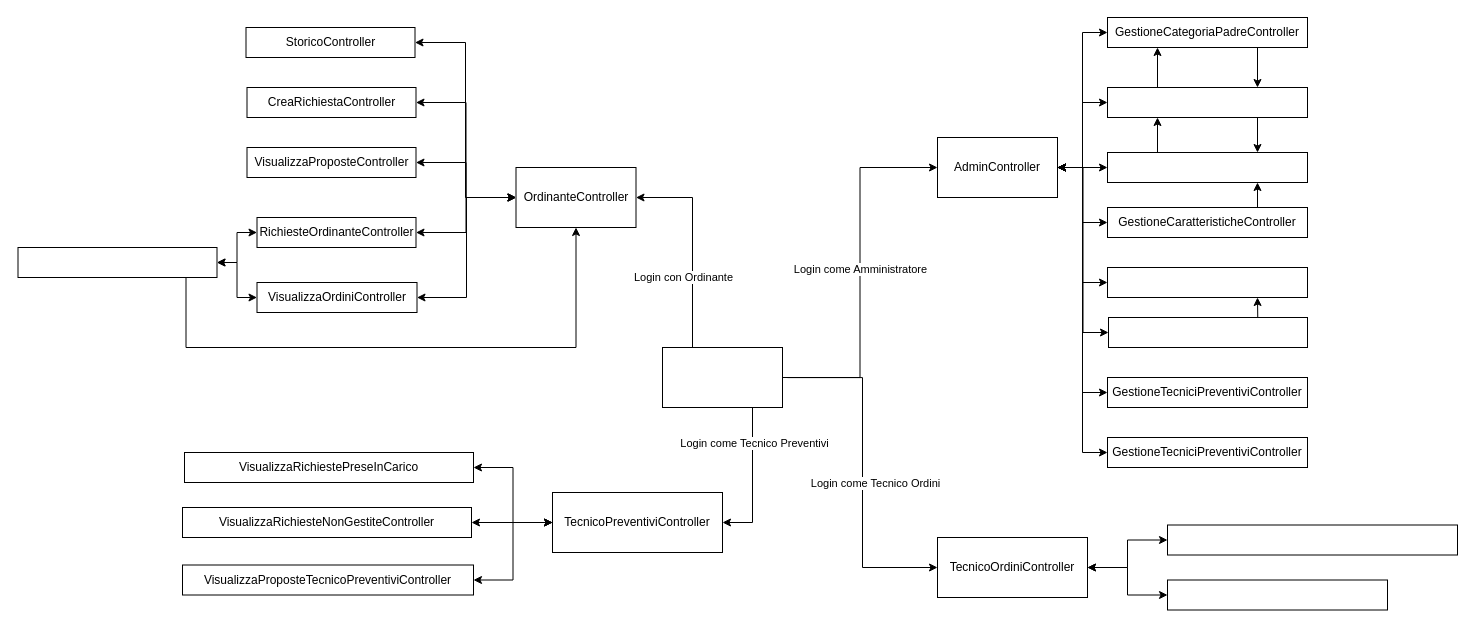
The diagram is 1475 pixels wide and 628 high, and some of its shapes have lost their labels. The shapes that lost their labels are listed below. From the top down, each one's centre as x and y in pixels, then its label:
point (1207, 102): GestioneCategoriaFiglioController
point (1207, 167): GestioneCategoriaNipoteController
point (117, 262): CaratteristicheRichiestaController
point (1207, 282): GestioneUfficiController
point (1208, 332): GestioneOrdinantiController
point (722, 377): LoginController
point (1312, 539): TecnicoOrdiniGestioneProposteAccettateController
point (1277, 594): TecnicoOrdiniGestioneOrdiniController
